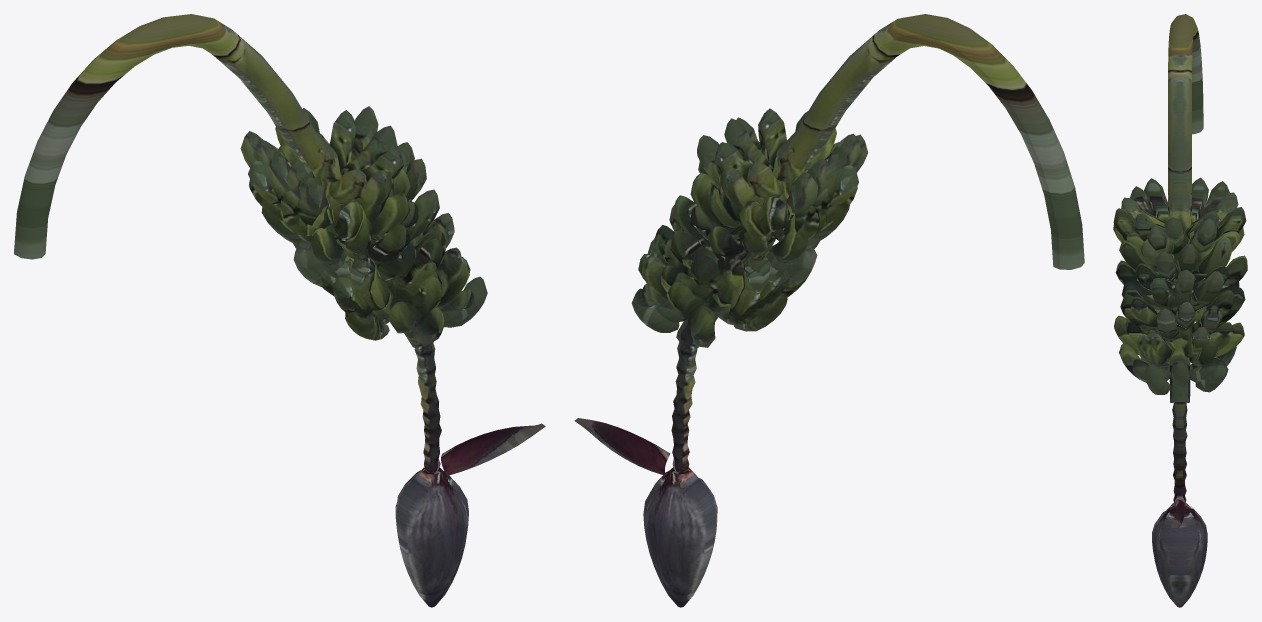
File: banana-bunch.glb
3 views of the same model, side by side, from view 1: azimuth 30°, elevation 25°; view 2: azimuth 150°, elevation 25°; view 3: azimuth 270°, elevation 25° (orthographic). The views are drawn at different scales.
Parts seen in each view (by area): view 1: banana-bunch-banana-bunch; view 2: banana-bunch-banana-bunch; view 3: banana-bunch-banana-bunch.
Boxes of the visible parts, <box> form: banana-bunch-banana-bunch: <box>14,14,545,607</box>; banana-bunch-banana-bunch: <box>574,14,1084,607</box>; banana-bunch-banana-bunch: <box>1113,14,1247,607</box>.
Size of the model in its own units: 1.14 by 1.38 by 0.3419.
Materials: 1 (1 with a texture image).
